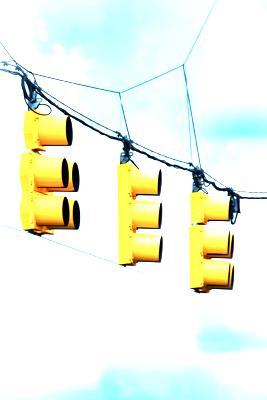International Road Signal Light: (18, 108, 80, 236), (116, 160, 165, 266), (187, 188, 236, 292)
